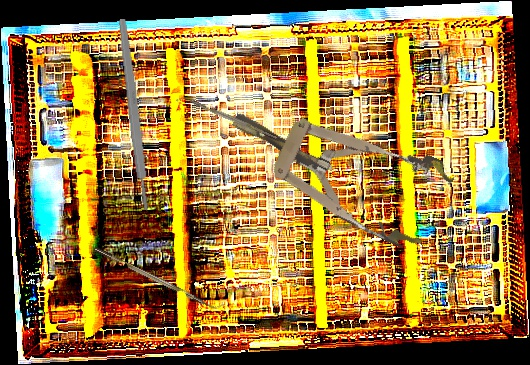Chopper: (93, 240, 225, 315), (175, 92, 278, 145)
Scalpel Handle: (116, 18, 152, 211)
Speculum: (215, 74, 459, 256)
